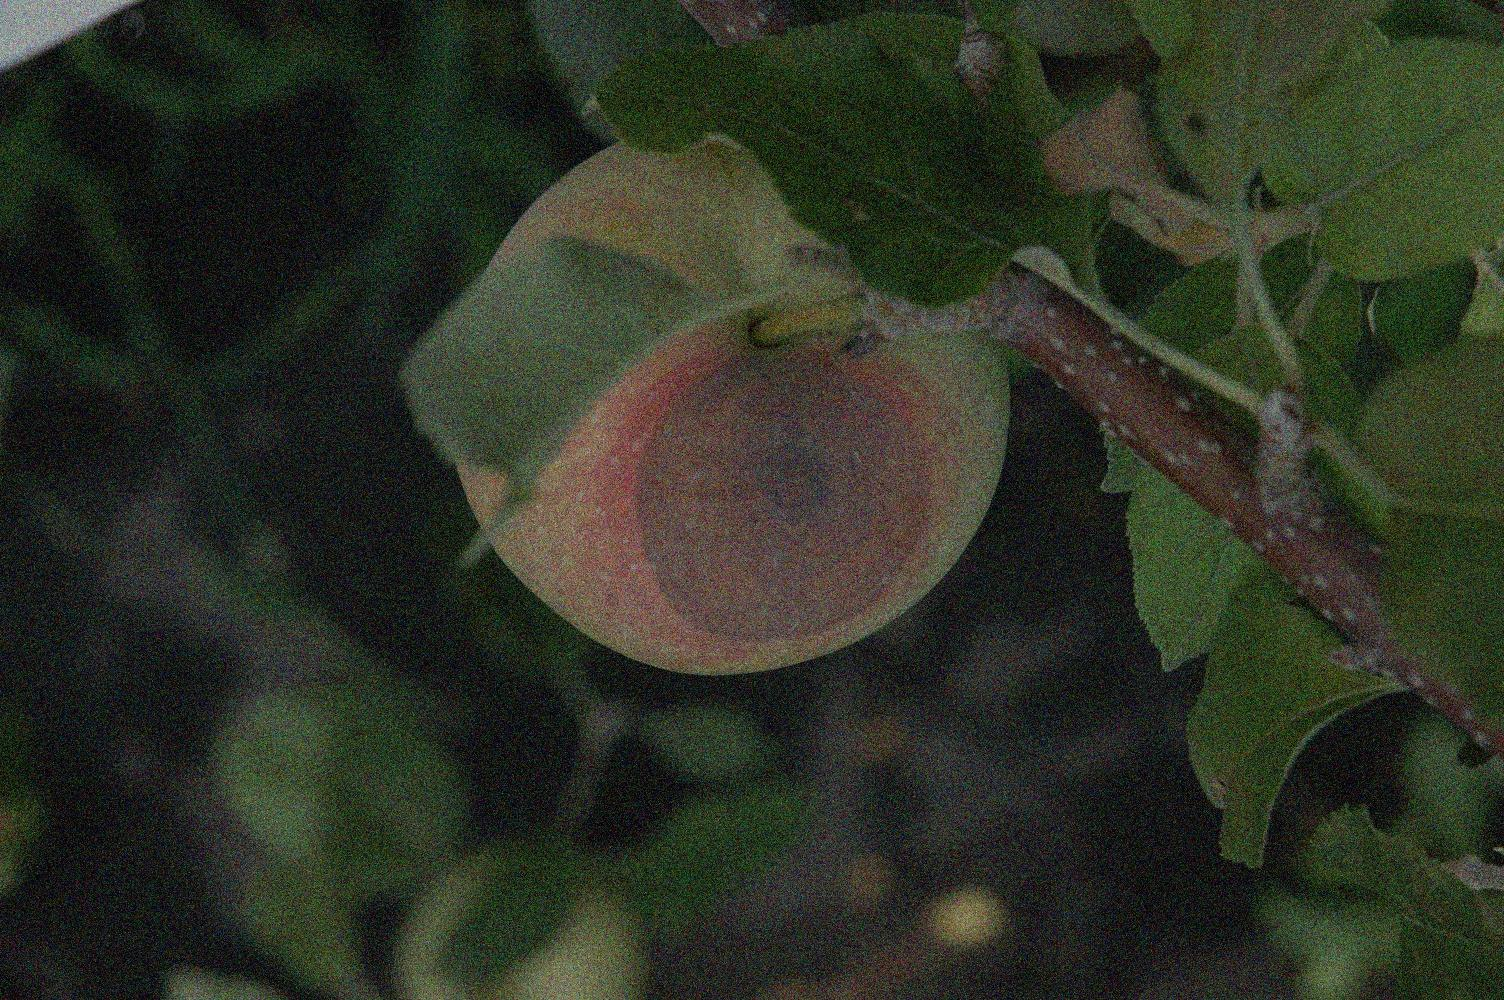rotten apple: (431, 119, 1019, 692)
